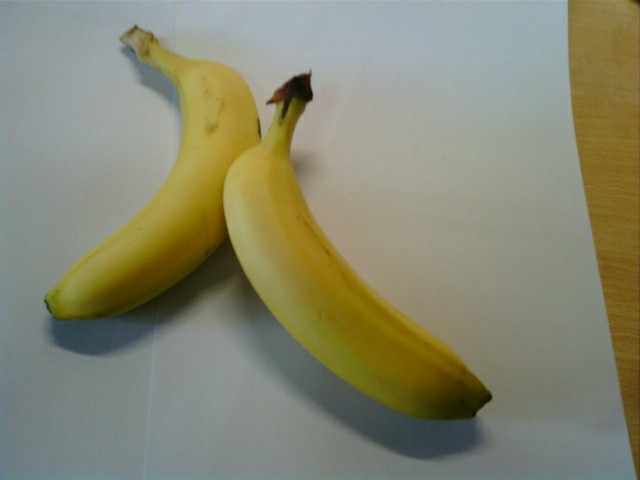fresh_banana: (222, 141, 493, 421), (45, 55, 256, 331)
